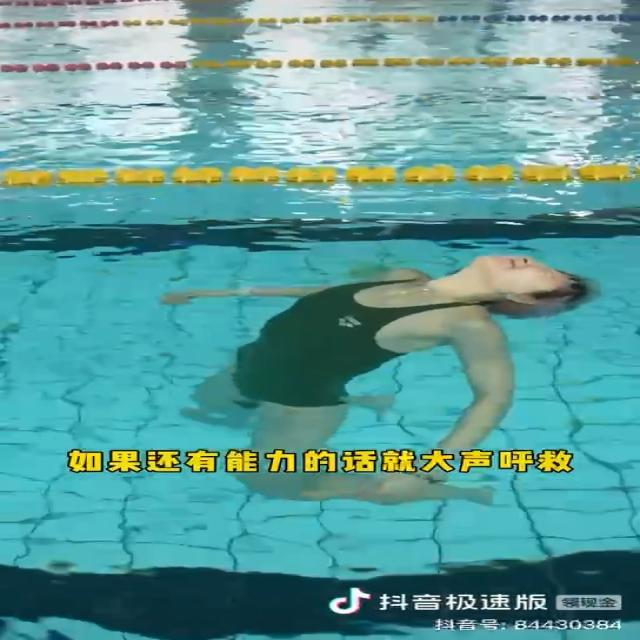Drowning: (159, 250, 596, 504)
